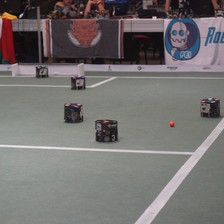ball: (167, 119, 175, 126)
goal: (9, 61, 86, 78)
robot: (91, 117, 119, 141), (199, 96, 220, 119), (62, 101, 84, 122), (68, 71, 85, 89), (34, 63, 49, 77)
